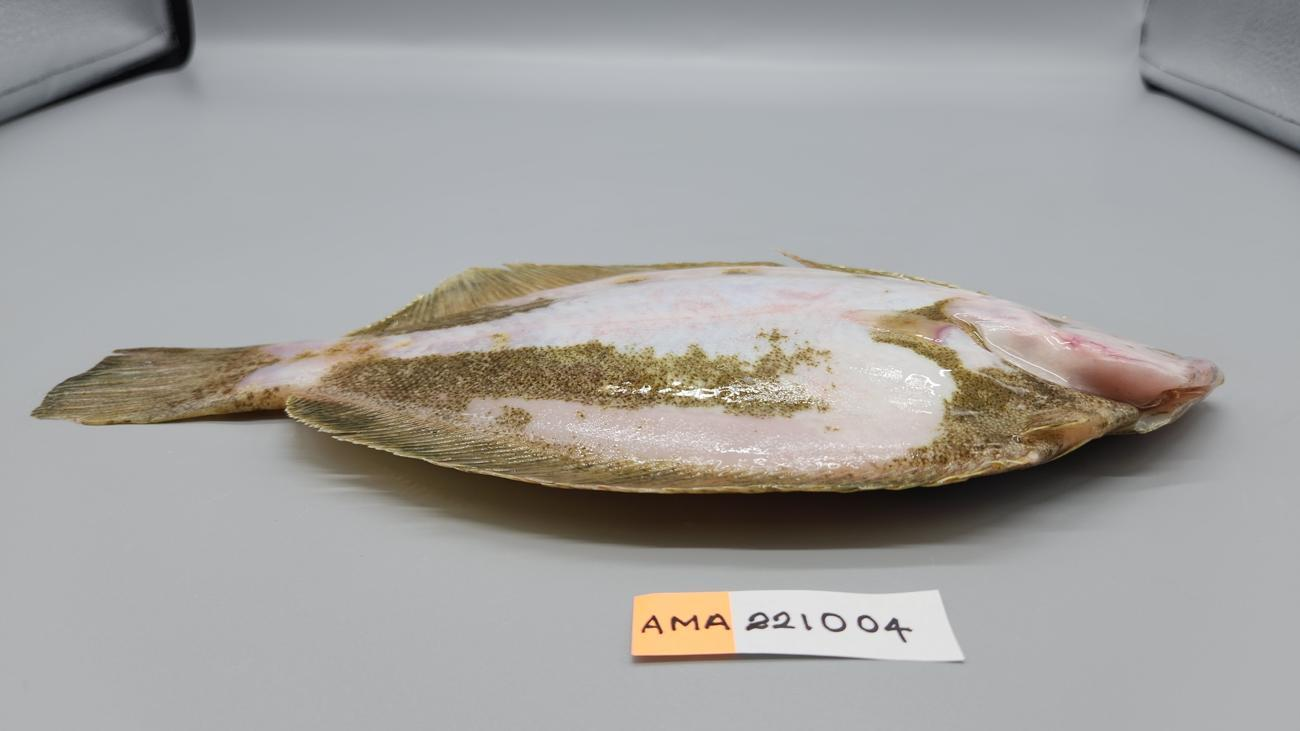MAOUY: (31, 251, 1224, 495)
